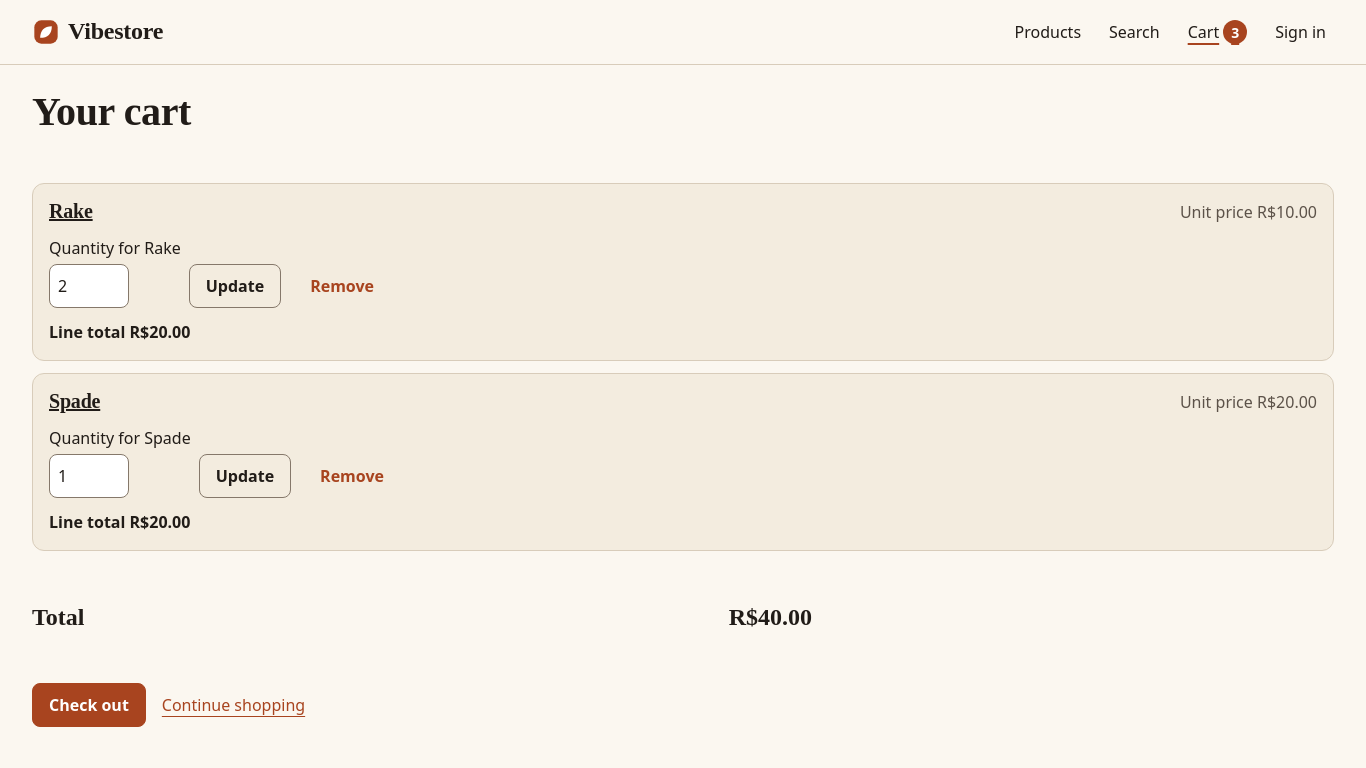
Cart page (FR-004, storefront-routes.md /cart) › changes a quantity and removes lines, every total coming from the server, down to the empty state
The image size is (1366, 768).
Expected: the heading "Your cart" is shown, [32,89,191,134]
Expected: the list named "Cart lines" is shown, [32,183,1334,551]
Replace the text in the number field labelled "Quantity for Rake" with "3". click: (89, 286)
box: [49,264,129,308]
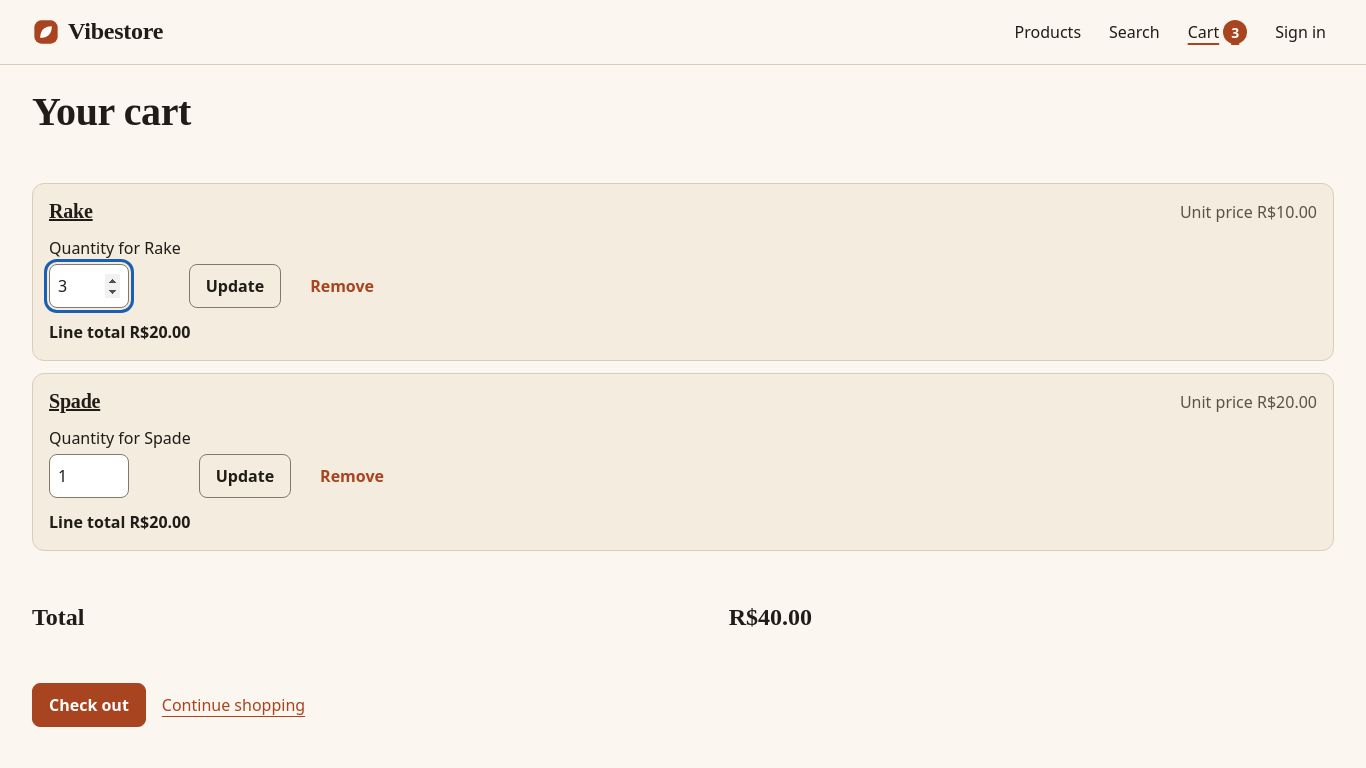
Click the 1st button "Update". click: (235, 286)
box: [189,264,281,308]
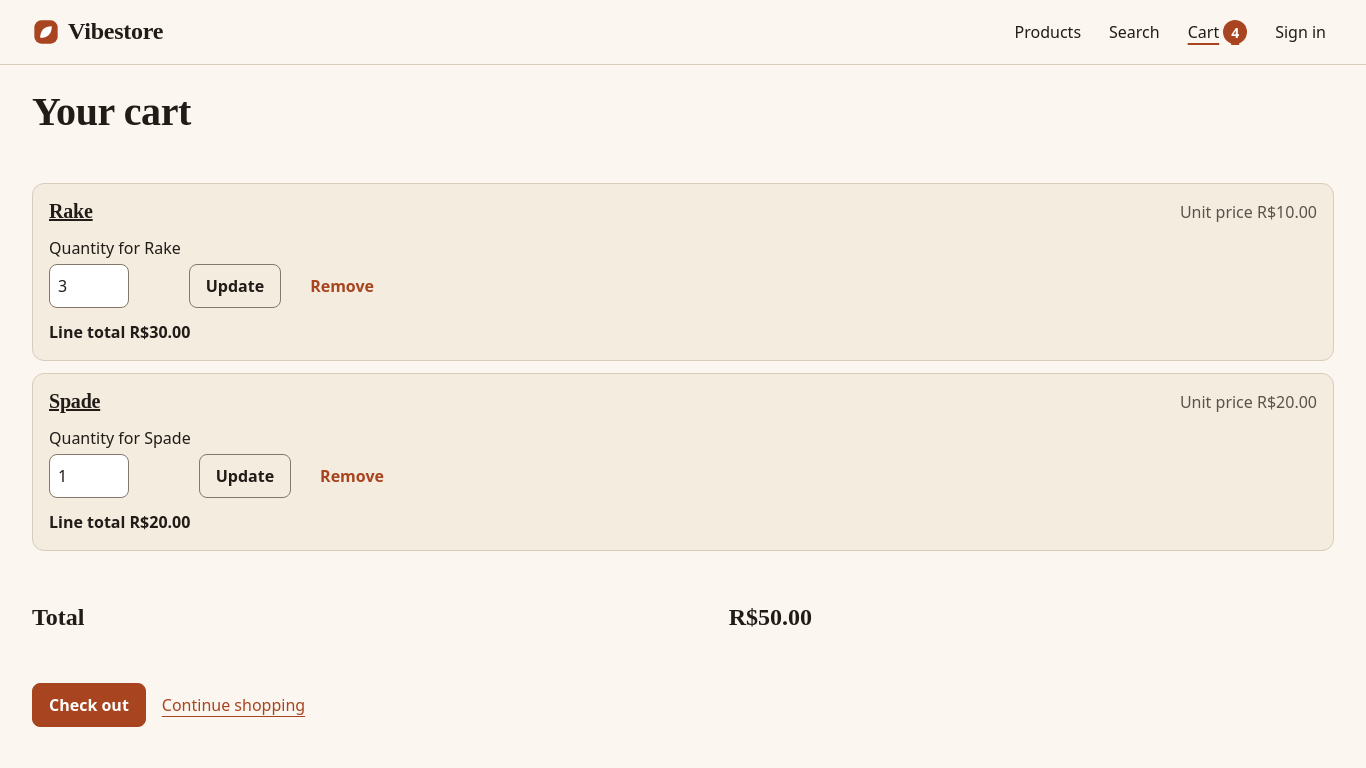
Expected: the text "Line total" shows "R$30.00", [130,321,190,343]
Click the button with aria-label "Remove Spade". click: (352, 476)
box: [303,454,401,498]
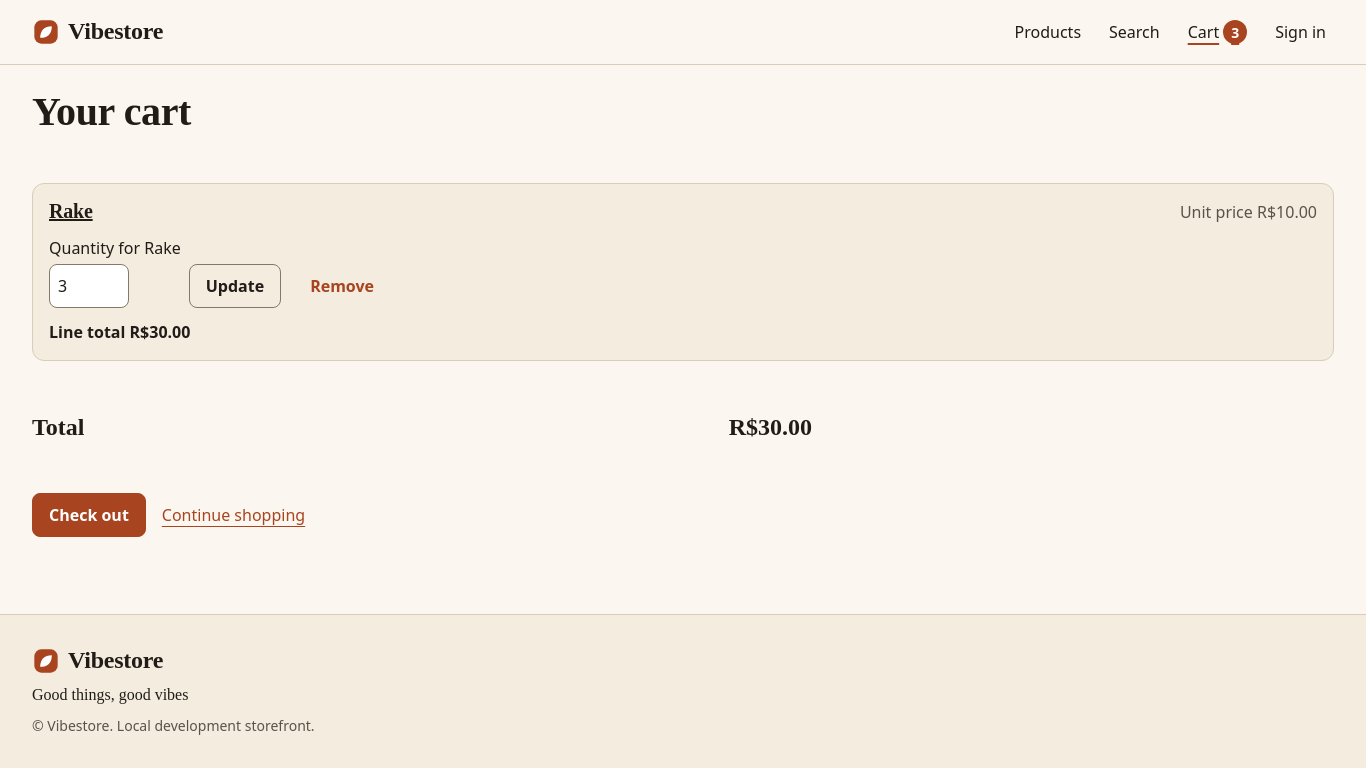
Expected: the link "Spade" is gone
Click the button with aria-label "Remove Rake". click: (342, 286)
box: [293,264,391,308]
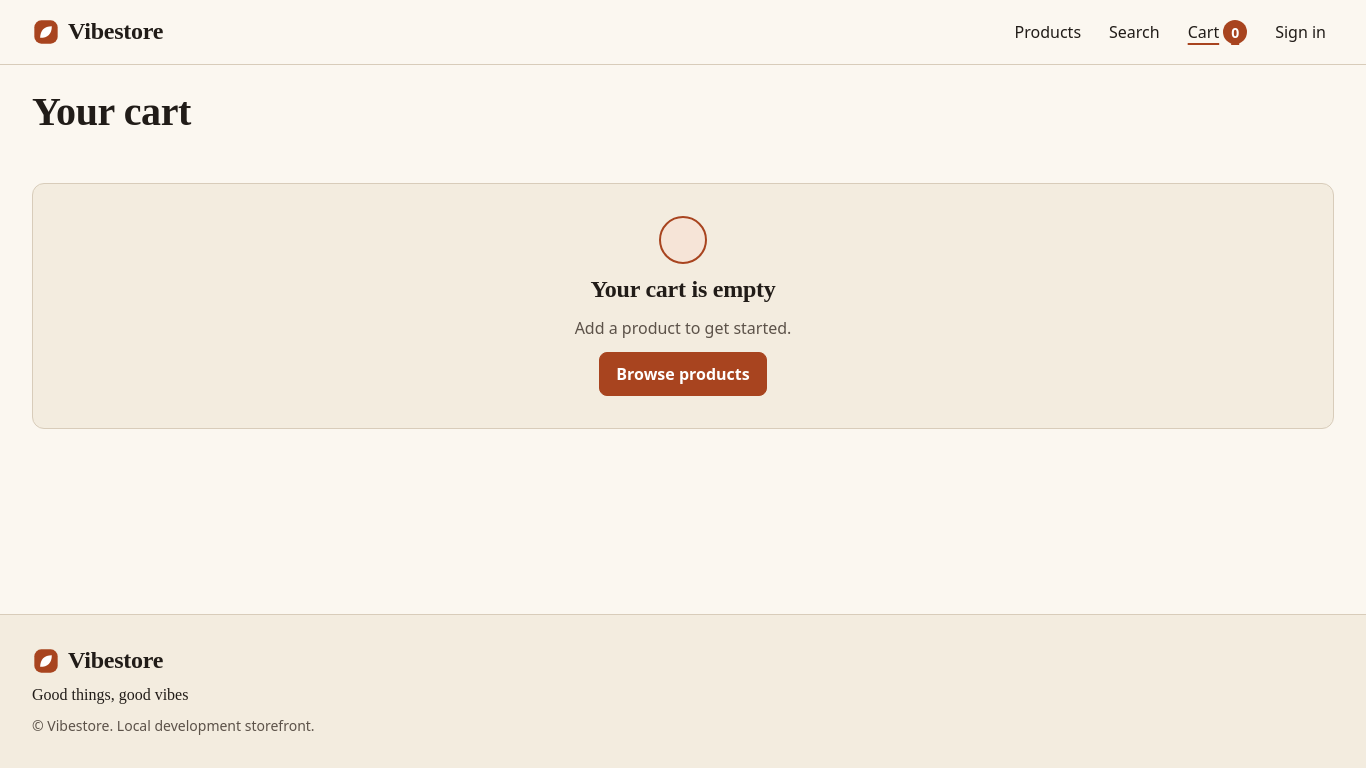
Expected: the heading "Your cart is empty" is shown, [590,276,776,304]
Expected: the text named "0 items in cart" is shown, [1223,20,1247,44]
